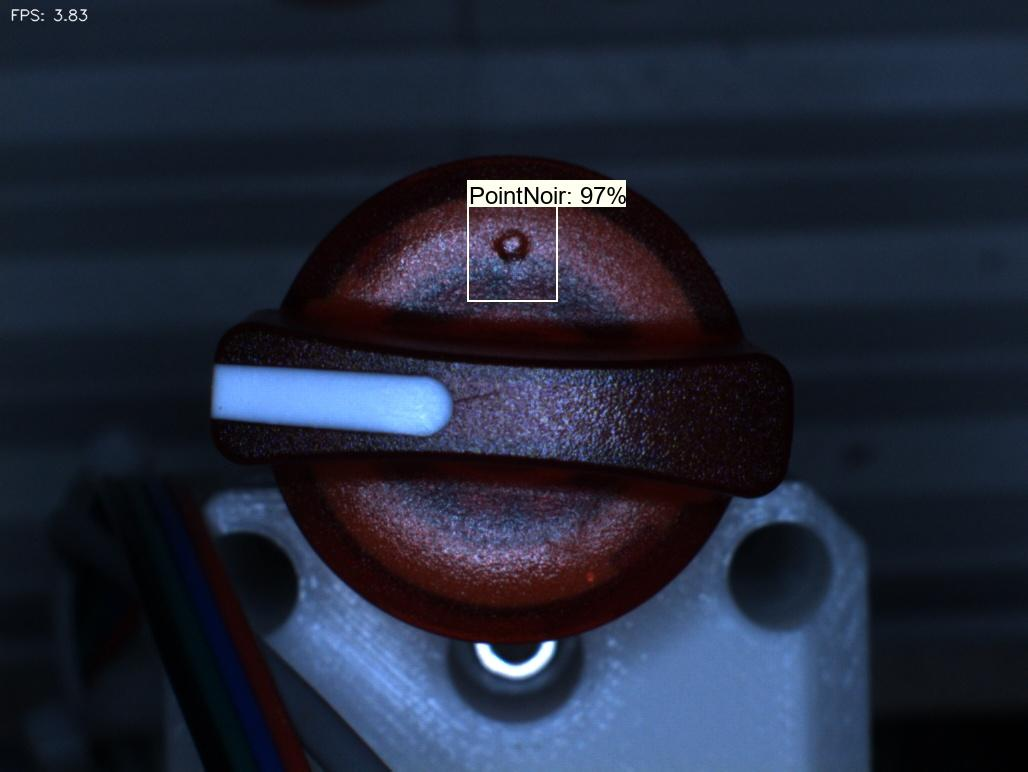Choc: (472, 211, 552, 288)
